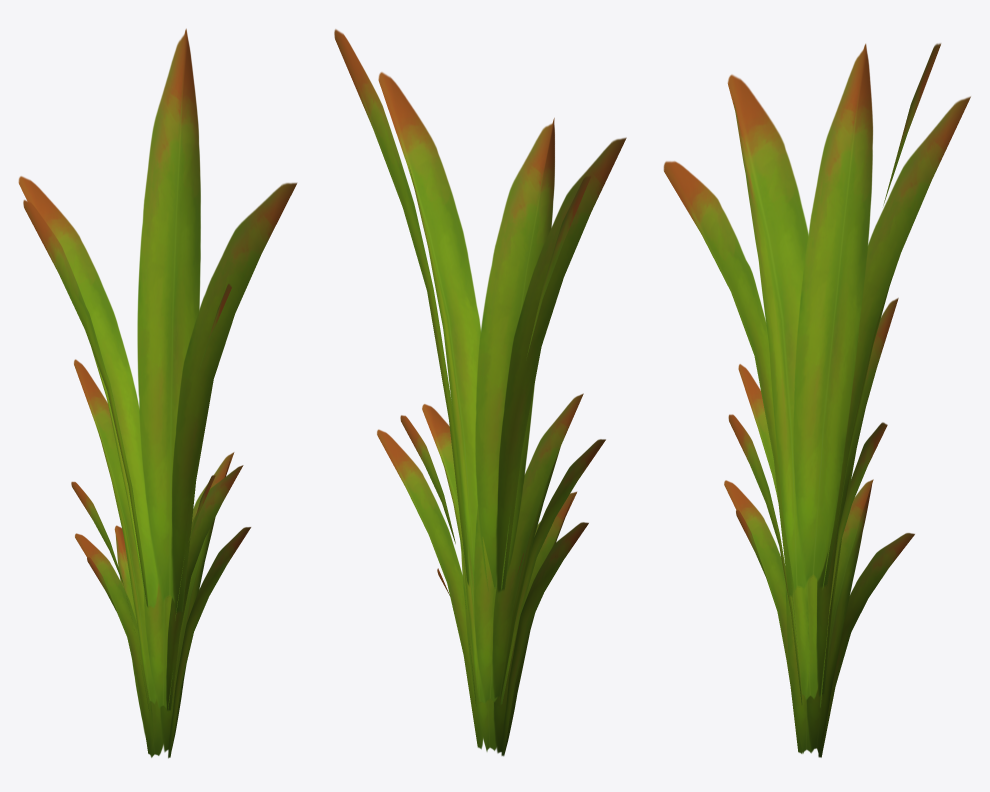
Rendered from decor-houseplant-tall.glb.
The picture shows the model from 3 angles, left to right: view 1: azimuth 30°, elevation 25°; view 2: azimuth 150°, elevation 25°; view 3: azimuth 270°, elevation 25°; orthographic projection. The views are drawn at different scales.
Visible parts, largest first — view 1: Plant_1_Big; view 2: Plant_1_Big; view 3: Plant_1_Big.
Part boxes in pixels (x1,y1,x2,y2): Plant_1_Big: [18, 28, 296, 758]; Plant_1_Big: [334, 29, 626, 756]; Plant_1_Big: [663, 43, 970, 757].
Size of the model in its own units: 0.5 by 1.4 by 0.5.
Materials: 1 (1 with a texture image).
